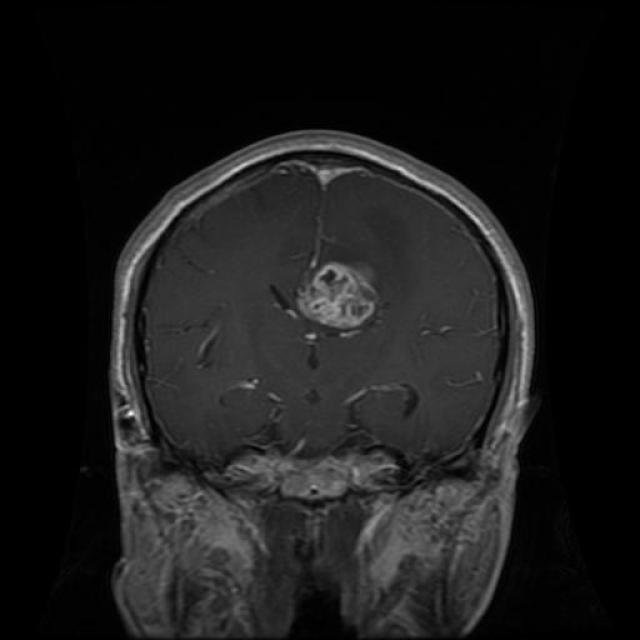glioma: (288, 254, 380, 340)
